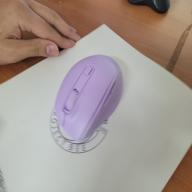mouse: (53, 52, 124, 144)
